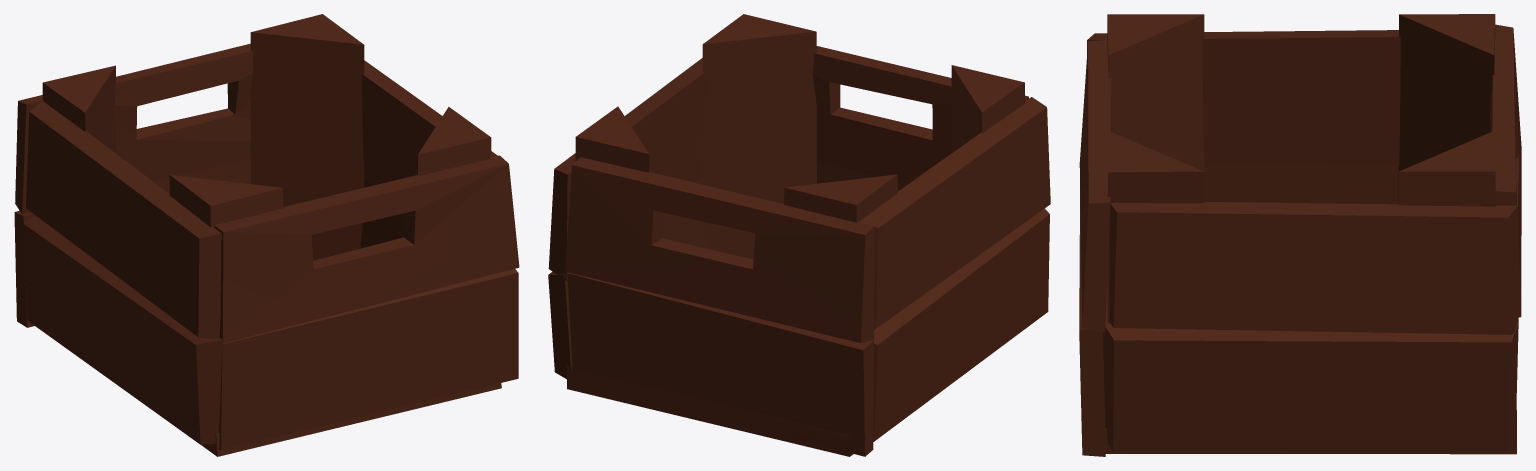
File: Crate_2.fbx
The picture shows the model from 3 angles, left to right: view 1: azimuth 30°, elevation 25°; view 2: azimuth 150°, elevation 25°; view 3: azimuth 270°, elevation 25°; orthographic projection. The views are drawn at different scales.
Parts seen in each view (by area): view 1: Crate_2; view 2: Crate_2; view 3: Crate_2.
Part boxes in pixels (bbox=[...]): Crate_2: bbox=[14, 14, 519, 456]; Crate_2: bbox=[548, 14, 1050, 456]; Crate_2: bbox=[1079, 14, 1521, 456].
Size of the model in its own units: 15.75 by 11.5 by 16.29.
